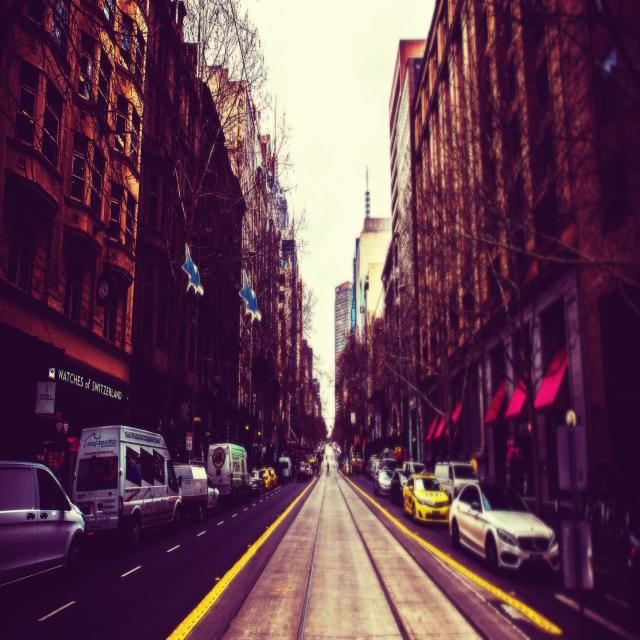airplane: (180, 241, 206, 298), (239, 268, 264, 324)
